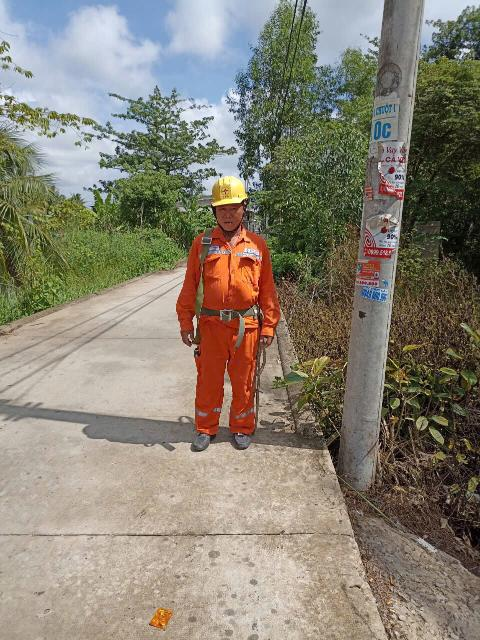gloves: (195, 172, 262, 212)
harness: (195, 297, 277, 328)
shoes: (185, 426, 231, 460), (229, 423, 258, 452)
